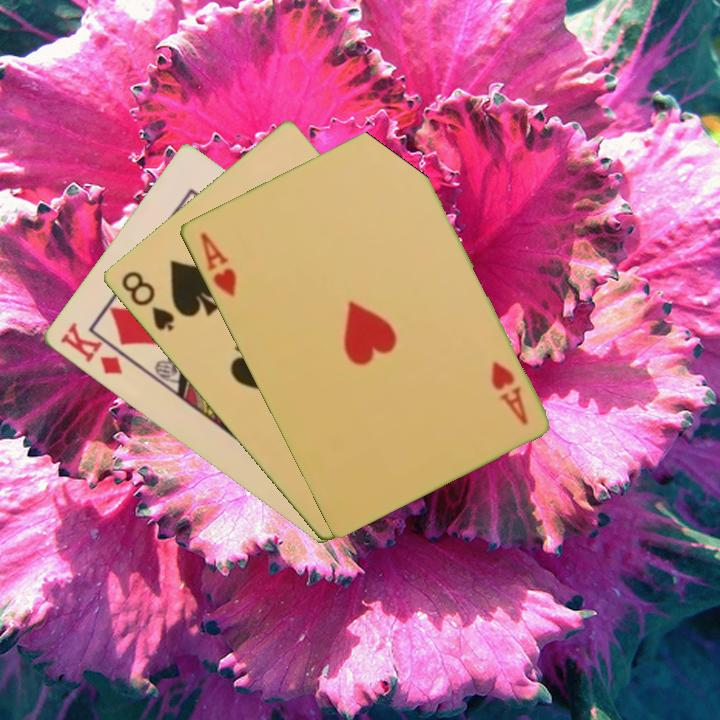8s: (117, 267, 177, 334)
Ah: (196, 229, 239, 300), (487, 358, 530, 428)
Kd: (56, 318, 125, 378)
